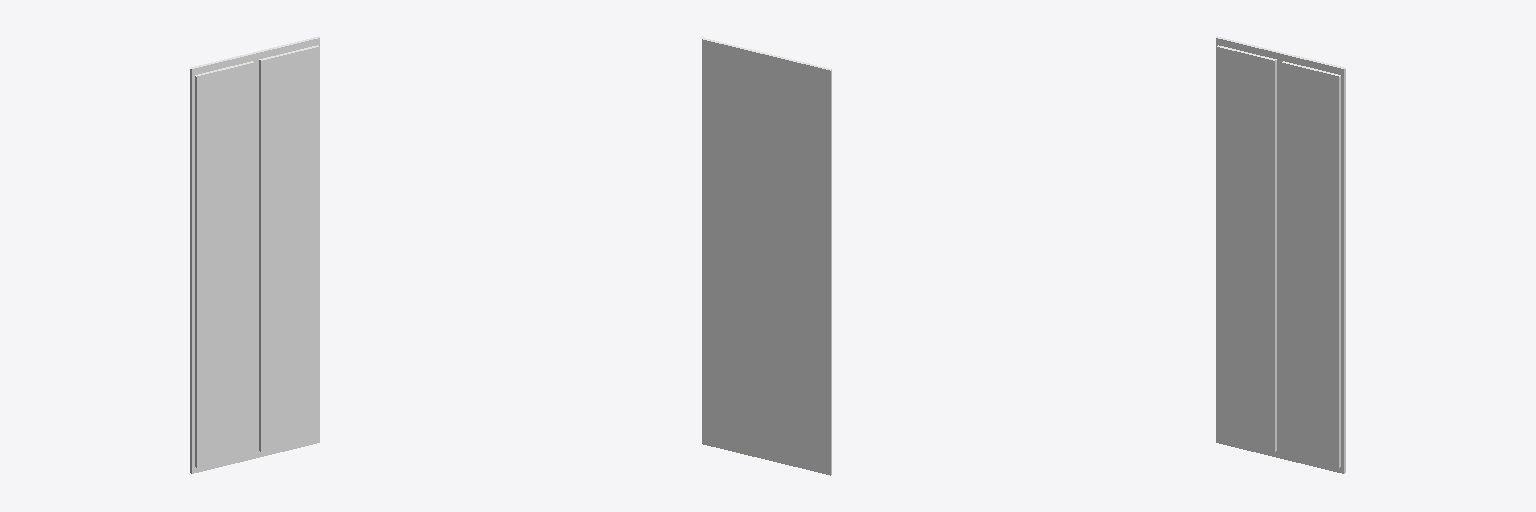
The model's file is LabWall2.obj.
3 views of the same model, side by side, from view 1: azimuth 30°, elevation 25°; view 2: azimuth 150°, elevation 25°; view 3: azimuth 330°, elevation 25° (orthographic).
Parts seen in each view (by area): view 1: object 1; view 2: object 1; view 3: object 1.
Part boxes in pixels (x1,y1,x2,y2): object 1: (190,36,319,473); object 1: (702,38,831,475); object 1: (1216,36,1345,473).
Bounding box in the file's own units: 4 × 12 × 0.2.